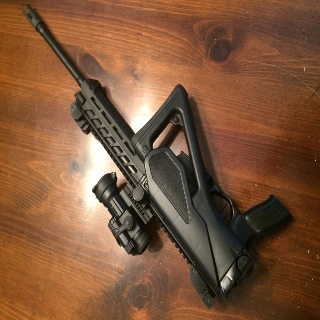rifle: (20, 5, 293, 310)
